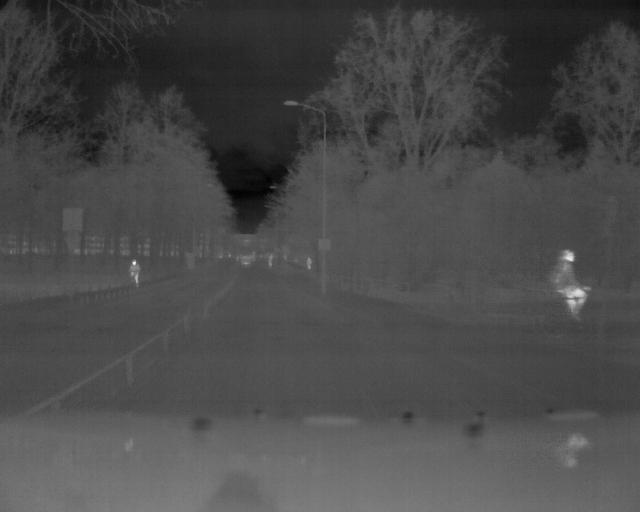person: (551, 241, 596, 330), (129, 260, 142, 288), (305, 255, 317, 269), (269, 251, 276, 269)
